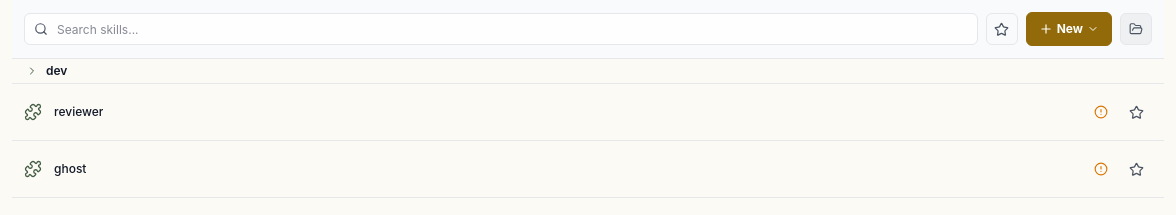
Test: LibraryList › switches to a flat ranked list with path subtitles while searching
Type "planner" into the field with test id "library-search".
click(501, 29); type("planner")  # box [24, 13, 978, 45]
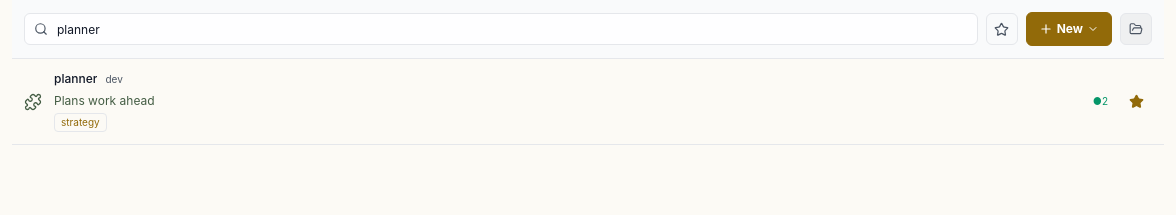
Check: the button with test id "library-folder-dev" is gone
Check: the button with test id "library-row-skills/dev/planner" is shown, box [12, 59, 1164, 145]
Check: the button with test id "library-row-skills/reviewer" is gone
